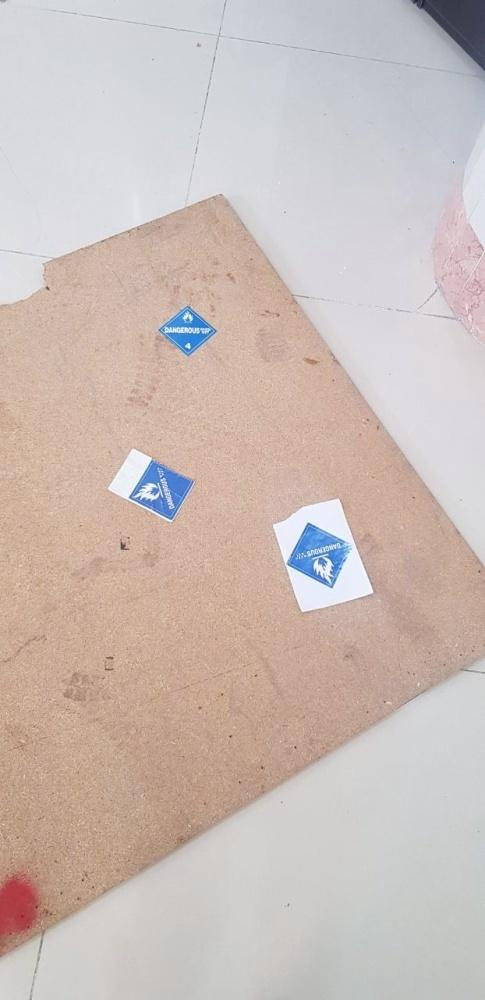dangerous-when-wet: (285, 519, 356, 591), (127, 461, 196, 524), (157, 305, 221, 359)
